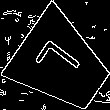L_SE: (34, 37, 90, 92)
